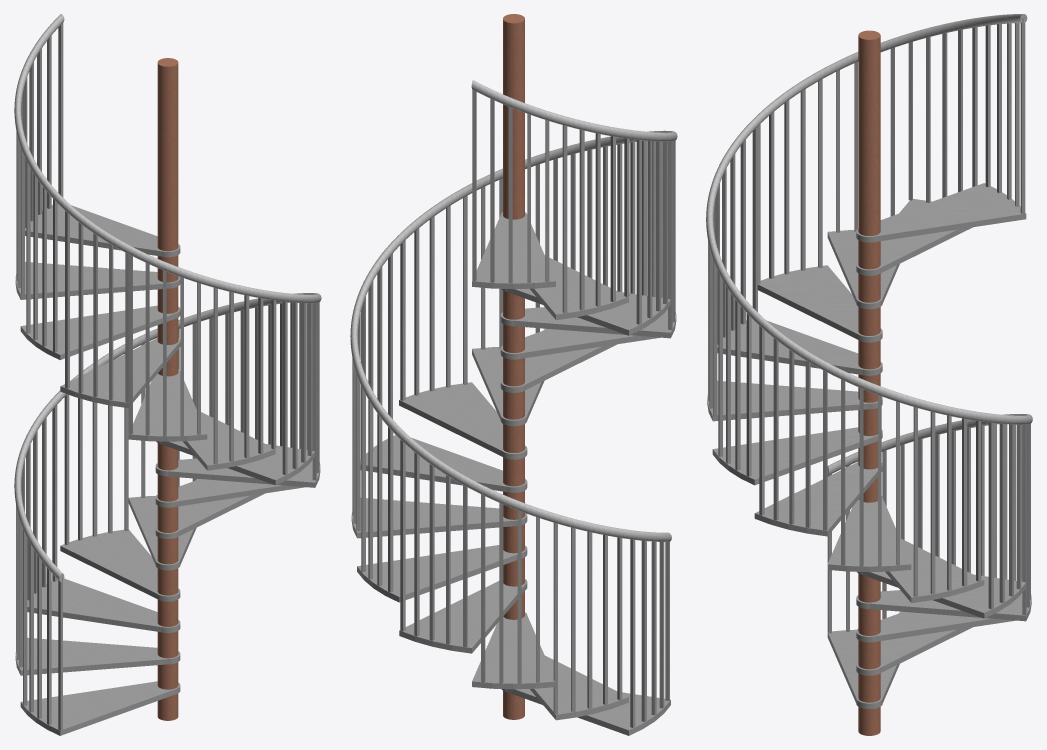
Rendered from spiral_stair_3.glb.
3 renders of one model, left to right at view 1: azimuth 30°, elevation 25°; view 2: azimuth 150°, elevation 25°; view 3: azimuth 270°, elevation 25°, orthographic. The views are drawn at different scales.
Parts seen in each view (by area): view 1: Object_2, Object_3, Object_5, Object_4; view 2: Object_2, Object_3, Object_5, Object_4; view 3: Object_2, Object_3, Object_5, Object_4.
Boxes of the visible parts, bbox=[...] form: Object_2: bbox=[16, 23, 319, 730]; Object_3: bbox=[15, 204, 320, 735]; Object_5: bbox=[157, 58, 178, 720]; Object_4: bbox=[14, 14, 321, 582]; Object_2: bbox=[352, 90, 675, 727]; Object_3: bbox=[351, 212, 676, 735]; Object_5: bbox=[503, 14, 524, 719]; Object_4: bbox=[350, 80, 677, 541]; Object_2: bbox=[708, 18, 1030, 633]; Object_3: bbox=[707, 183, 1031, 708]; Object_5: bbox=[858, 30, 880, 735]; Object_4: bbox=[706, 14, 1032, 475].
Bounding box in the file's own units: 160 × 378 × 160.
4 materials, 4 textured.
